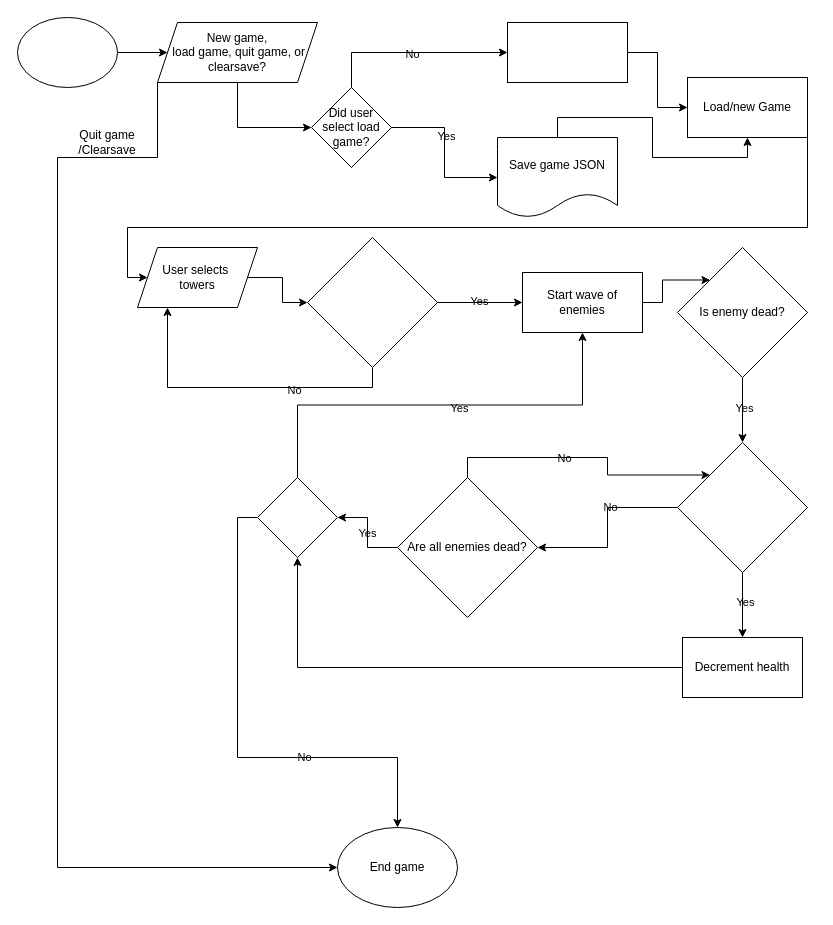
Some shapes in this 833 by 925 pixel diagram are drawn without their labels. The centre of each missing label's shape, as x and y in pixels:
"Are all towers placed or money spent?" goes at point 372,302.
"Did enemy cross finish?" goes at point 742,507.
"Display instructions" goes at point 567,52.
"Health>0?" goes at point 297,517.
"Start" goes at point 67,52.
